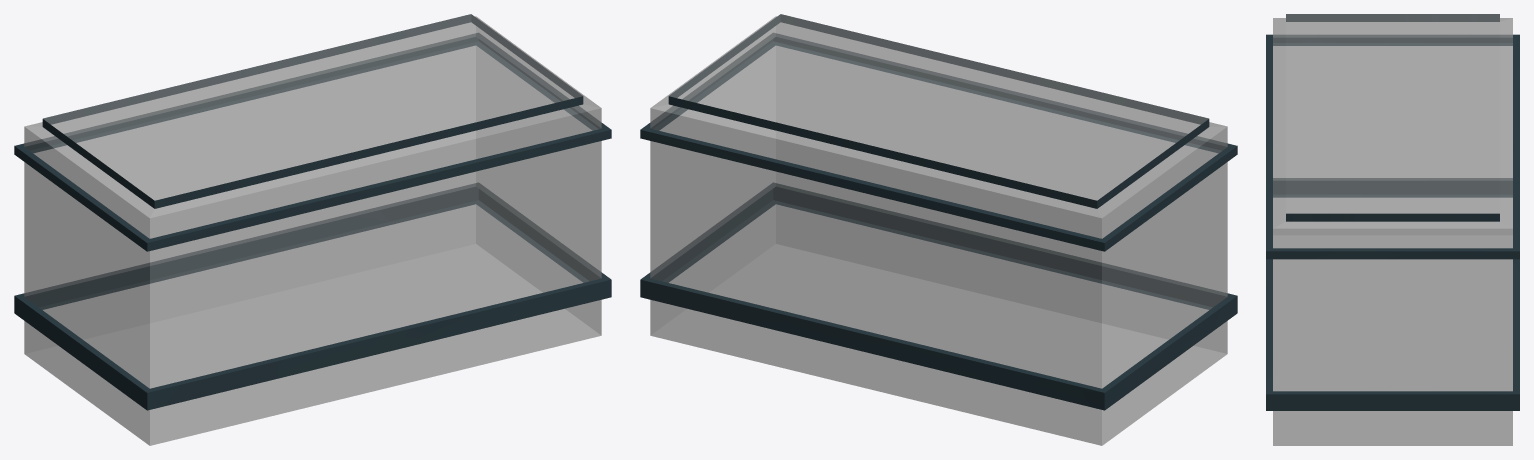
The model's file is glass_Box.fbx.
3 views of the same model, side by side, from view 1: azimuth 30°, elevation 25°; view 2: azimuth 150°, elevation 25°; view 3: azimuth 270°, elevation 25° (orthographic). The views are drawn at different scales.
Visible parts, largest first — view 1: Cube; view 2: Cube; view 3: Cube.
Boxes of the visible parts, left/top/right/bottom form: Cube: left=14, top=14, right=611, bottom=445; Cube: left=640, top=14, right=1237, bottom=445; Cube: left=1266, top=14, right=1519, bottom=445.
Bounding box in the file's own units: 0.9528 × 0.4657 × 0.4721.
